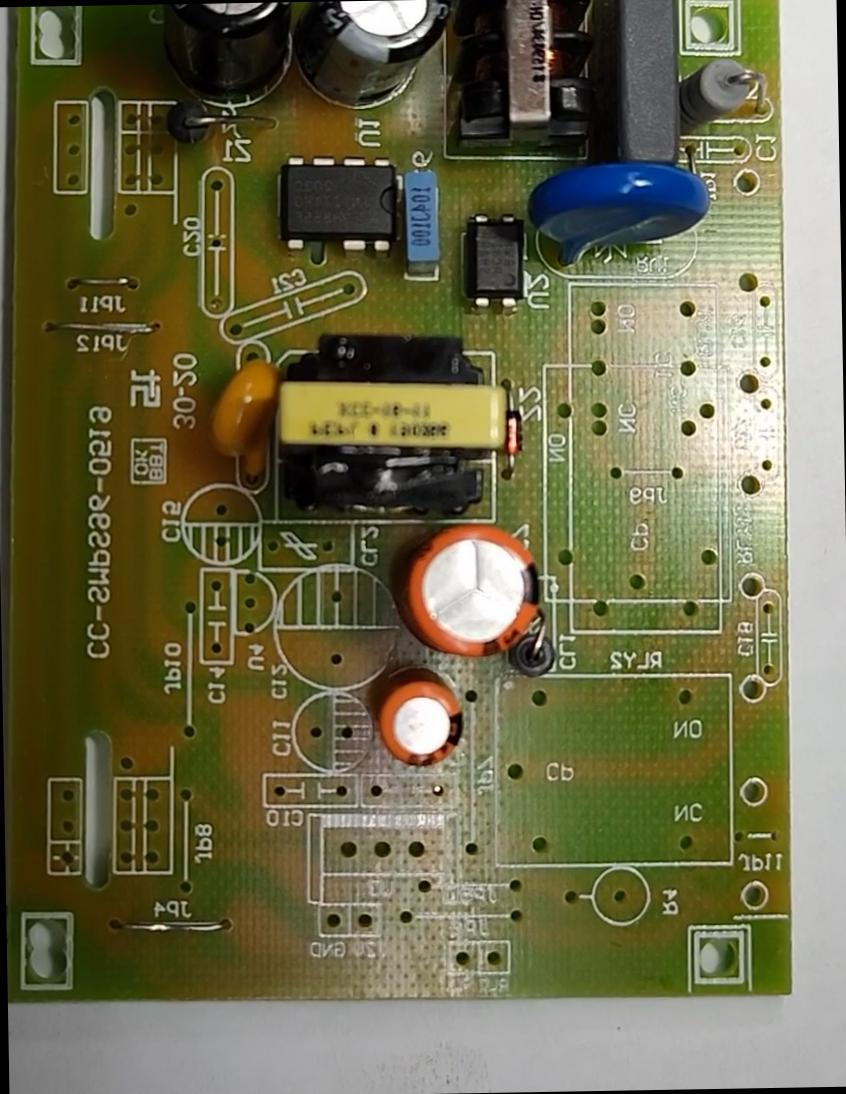Cap1: (398, 518, 546, 668)
Cap2: (381, 670, 465, 766)
Cap3: (294, 0, 463, 118)
Cap4: (159, 4, 300, 110)
MOSFET: (278, 148, 403, 262)
Mov: (530, 152, 720, 277)
Resistor: (685, 44, 765, 135)
Transformer: (273, 332, 502, 524), (456, 0, 605, 153)
